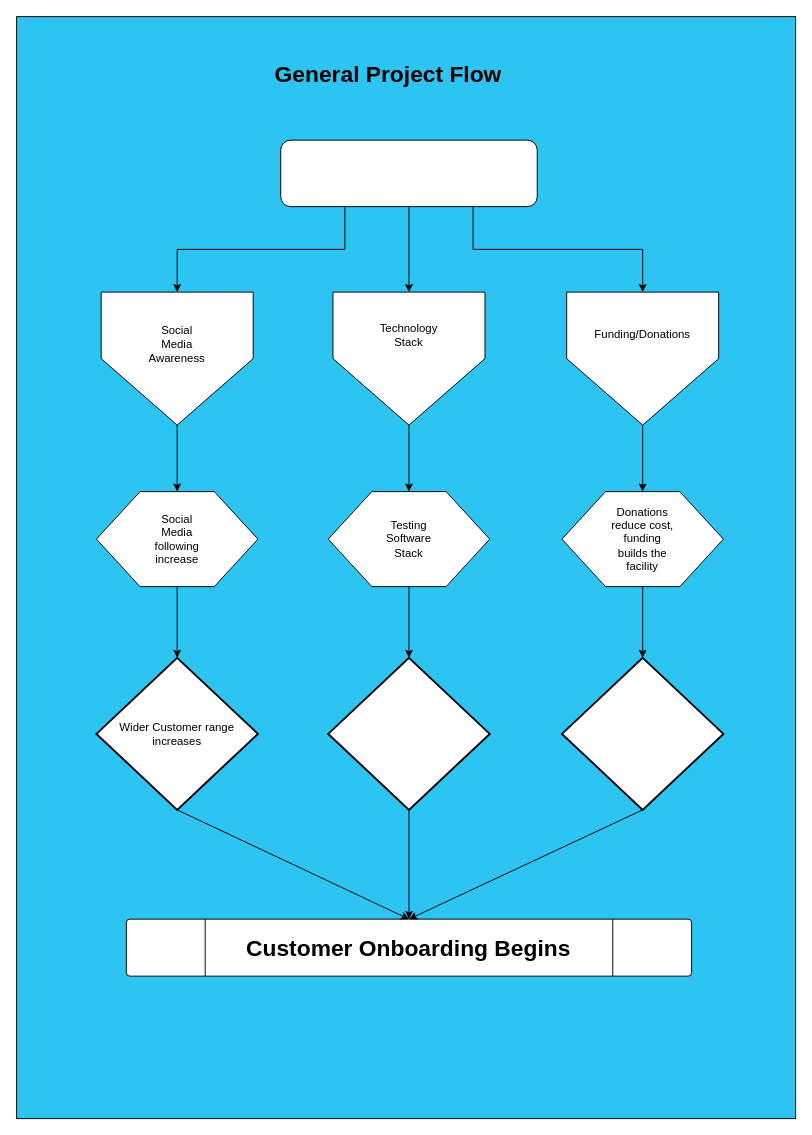
The diagram is 812 pixels wide and 1135 high, and some of its shapes have lost their labels. Here are the shapes that lost their labels. From the top down, the centre of each, then its label:
At (408,173): "Build Website".
At (408,733): "Pushing Software stack to production environments".
At (642,733): "Funding requirements met construction begins".
